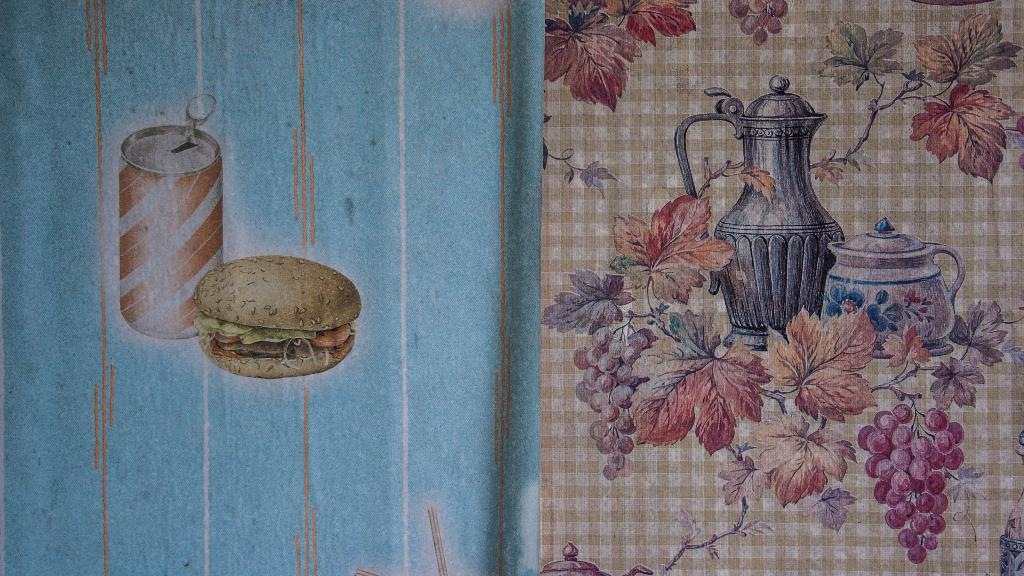Hamburger: (195, 252, 362, 381)
